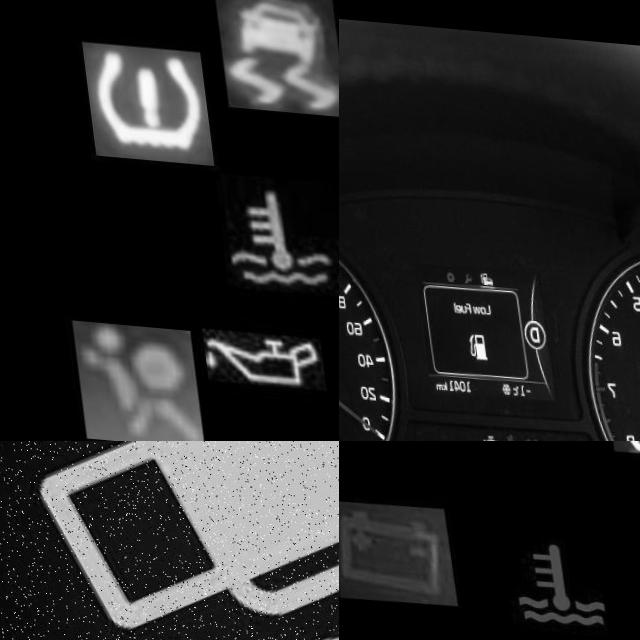Engine cooling system: (481, 514, 612, 640), (209, 169, 338, 292)
